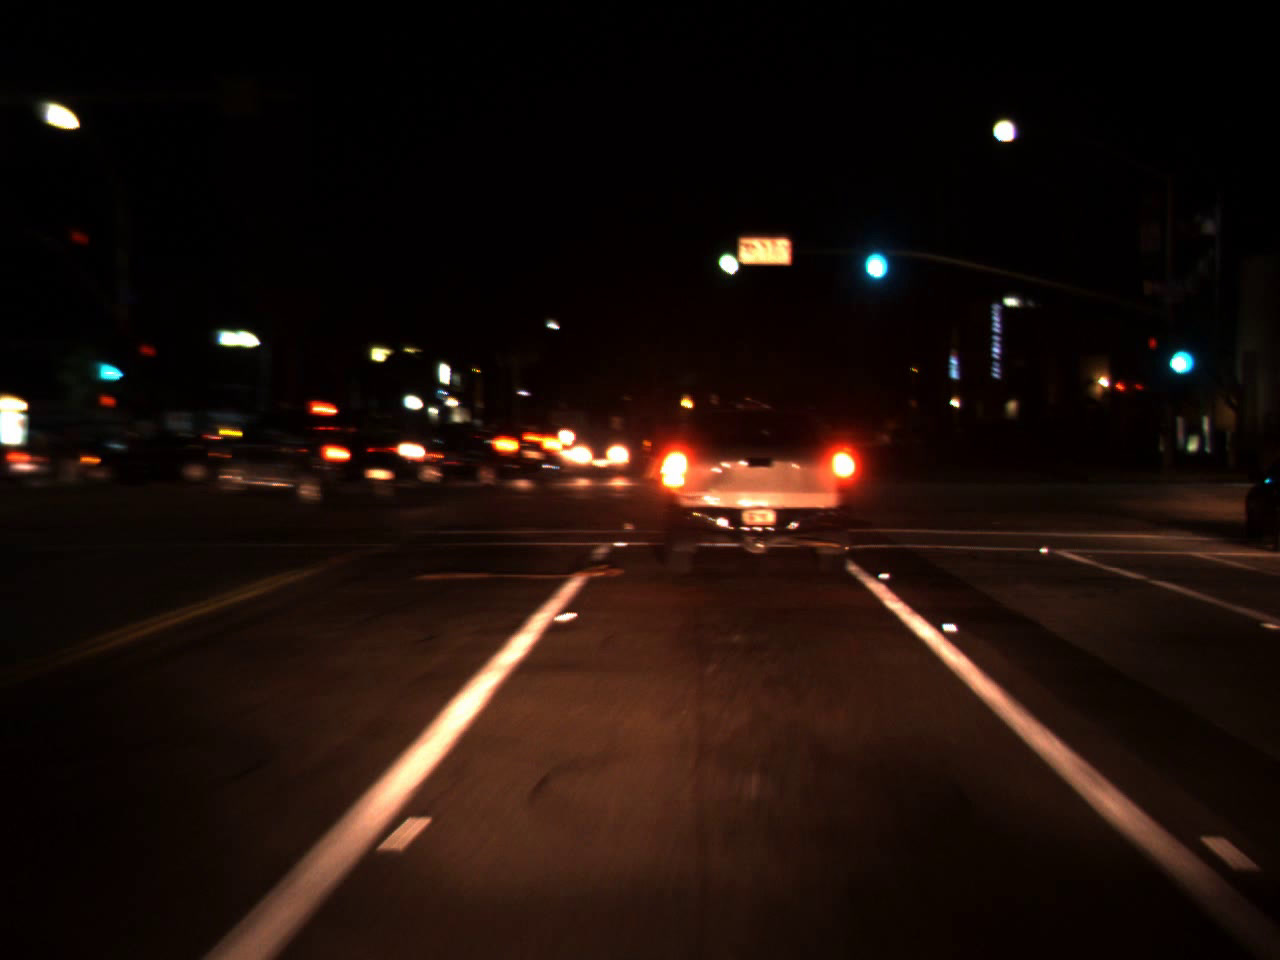go: (855, 219, 892, 288), (707, 235, 744, 283), (1160, 333, 1192, 387), (90, 346, 127, 385)
